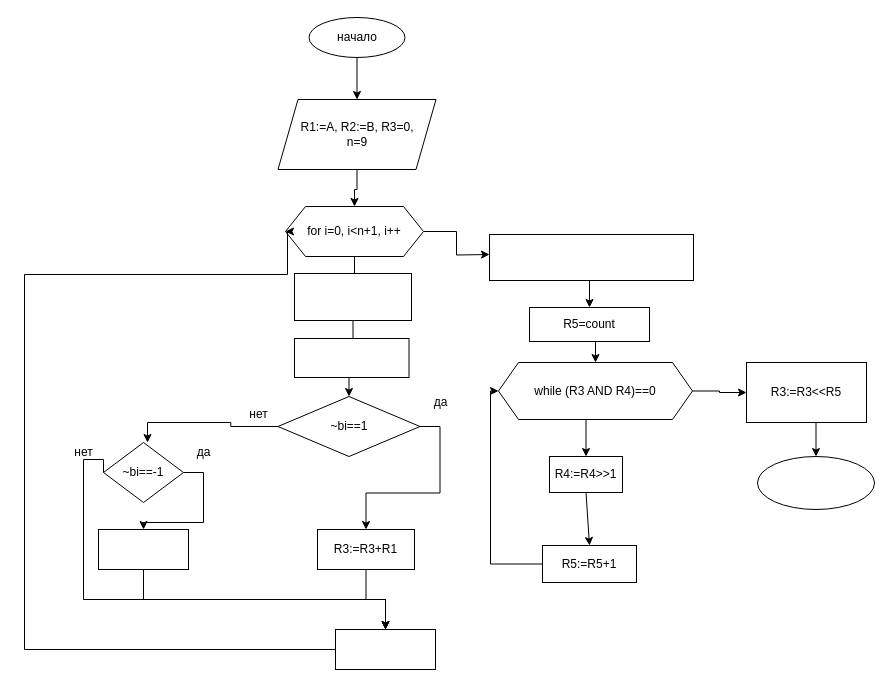
The diagram is 892 pixels wide and 687 high, and some of its shapes have lost their labels. Each missing label, with the box of its shape:
R3:=R3-R1: (98, 528, 188, 570)
R3<<: (334, 628, 436, 670)
~b9=0-R2[9]: (294, 338, 409, 378)
~bi=R2[i+1]-R2[i]: (294, 272, 412, 320)
конец: (756, 456, 874, 510)
М= 1000000000000000000, R4=M: (488, 234, 694, 280)
